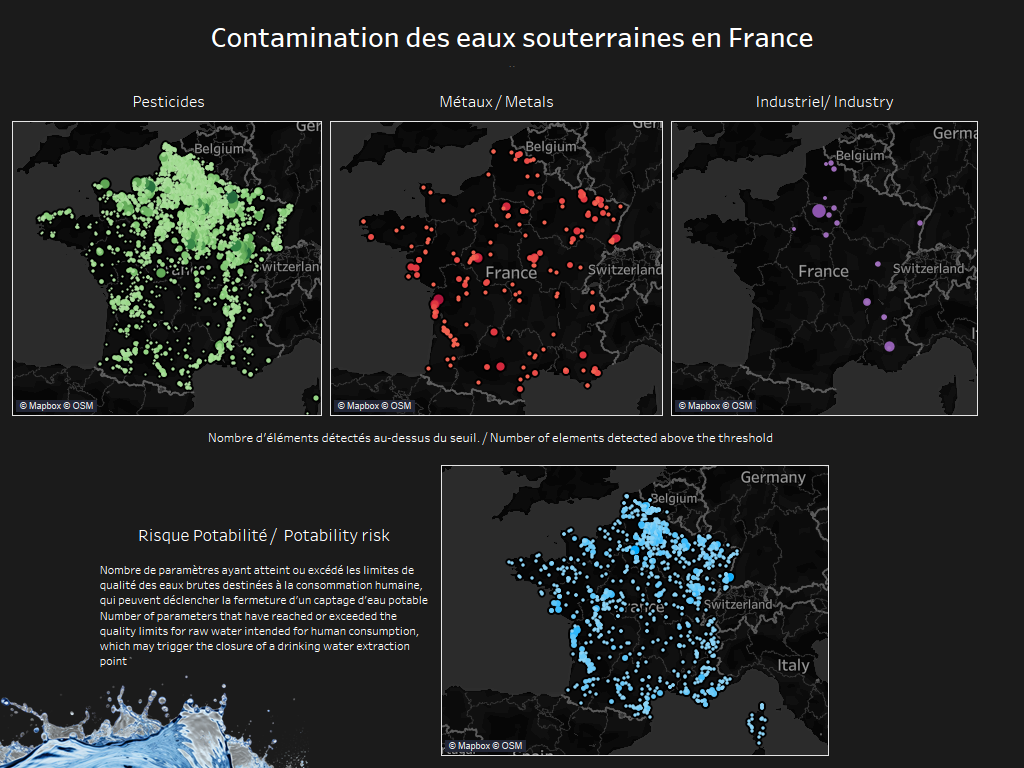

The page's visual inventory and layout, read from the dashboard file:
{"tool":"tableau","page":{"name":"Maps","canvas":[1000,800],"ordinal":0},"visuals":[{"type":"text","box":[8,8,984,108]},{"type":"worksheet","title":"count parametres depassement","mark":"Automatic","rows":["y"],"cols":["x"],"box":[8,116,492,471.1]},{"type":"worksheet","title":"alerte Nitrates","mark":"Automatic","rows":["y"],"cols":["x"],"box":[500,116,492,471.1]},{"type":"legend","title":"alerte Nitrates","param":"[federated.0fbx0ou0tv5xze18c04z00nawbdv].[none:alerte_nitrates:qk]","box":[847,195,140,75]},{"type":"legend","title":"count parametres depassement","param":"[federated.0fbx0ou0tv5xze18c04z00nawbdv].[none:count_params_depassement:qk]","box":[354,198,140,77]},{"type":"image","param":"C:/Users/rober/Downloads/vecteezy_ai-generated-translucent-water-wave-in-light-b","box":[8,587.1,492,204.9]},{"type":"text","box":[500,587.1,492,204.9]}]}

Visuals, with their boxes on the page's 1000x800 design canvas (x1, y1, x2, y2). These are canvas units, not pixel positions in the 1024x768 screenshot, which may show the page scaled, cropped or inside an application window:
text: rect(8, 8, 992, 116)
"count parametres depassement" worksheet: rect(8, 116, 500, 587)
"alerte Nitrates" worksheet: rect(500, 116, 992, 587)
"alerte Nitrates" legend: rect(847, 195, 987, 270)
"count parametres depassement" legend: rect(354, 198, 494, 275)
image: rect(8, 587, 500, 792)
text: rect(500, 587, 992, 792)
